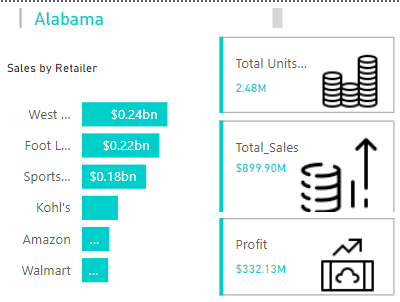

This screenshot's page, from the dashboard's own definition file:
{"tool":"powerbi","page":{"name":"State Tooltip","canvas":[320,240],"ordinal":3},"visuals":[{"type":"multiRowCard","fields":{"Values":["Location.State"]},"box":[9.9,0,221.2,25.9],"z":0},{"type":"cardVisual","fields":{"Data":["Data Sales Adidas.Total_Sales"]},"box":[170.3,89.7,149.6,87.7],"z":0,"group":"g1"},{"type":"cardVisual","fields":{"Data":["Data Sales Adidas.Total Units Sold"]},"box":[170.3,22.9,149.6,71.2],"z":1000,"group":"g1"},{"type":"barChart","title":"Sales by Retailer","fields":{"Y":["Data Sales Adidas.Total_Sales"],"Category":["Data Sales Adidas.Retailer"]},"box":[0,47.5,175,192.4],"z":1000},{"type":"group","id":"g1","title":"Group 1","box":[170.3,22.9,149.6,216.9],"z":2000},{"type":"cardVisual","fields":{"Data":["Data Sales Adidas.Profit"]},"box":[170.3,168.2,149.6,71.7],"z":2000,"group":"g1"}]}

Visuals, with their boxes in screenshot pixels (x1, y1, x2, y2), scaled from the page's 320x240 canvas onto the 400x302 screenshot:
multiRowCard - Location.State: crop(12, 0, 289, 33)
cardVisual - Data Sales Adidas.Total_Sales: crop(213, 113, 399, 223)
cardVisual - Data Sales Adidas.Total Units Sold: crop(213, 29, 399, 118)
"Sales by Retailer" barChart: crop(0, 60, 219, 301)
"Group 1" group: crop(213, 29, 399, 301)
cardVisual - Data Sales Adidas.Profit: crop(213, 212, 399, 301)
